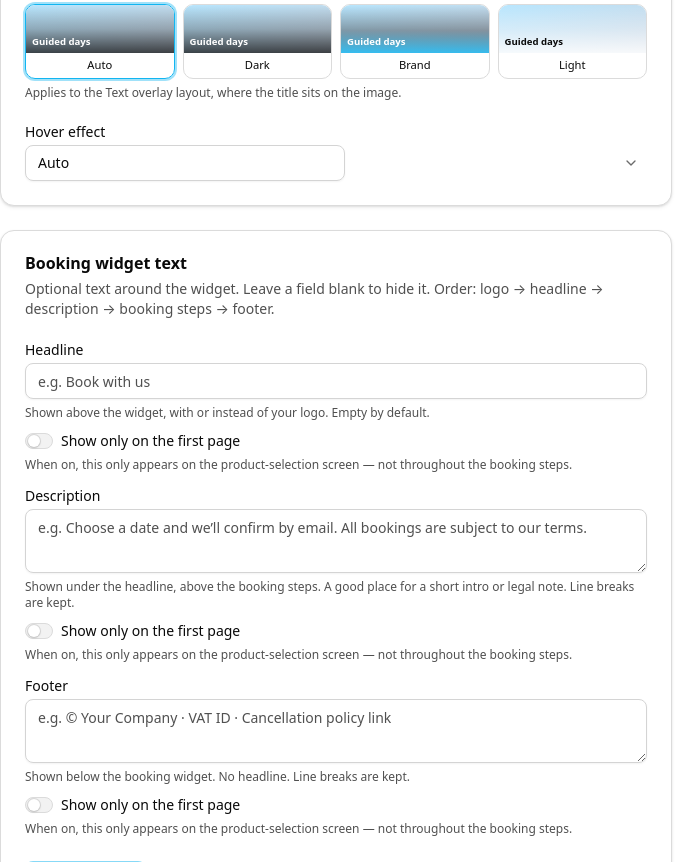
WidgetSettings — first-page-only switches (landr-dnzd) › toggling headline switch marks the form dirty and enables Save
(page scrolled)
Click the switch with test id "widget-headline-first-page-only": click(39, 441) [25,433,53,449]
(page scrolled)
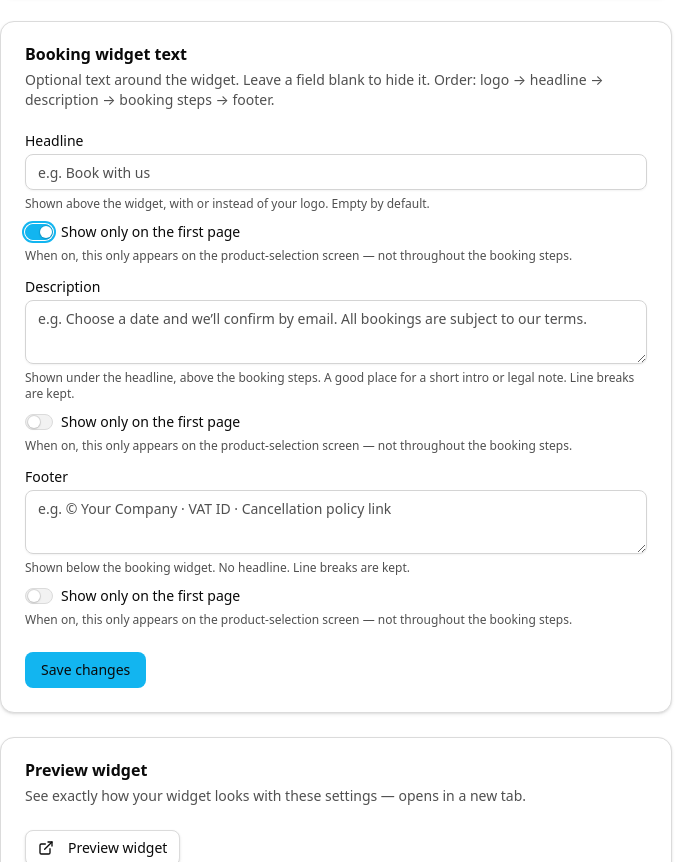
Check: the button with test id "widget-text-save" is enabled, box [25,652,146,688]
